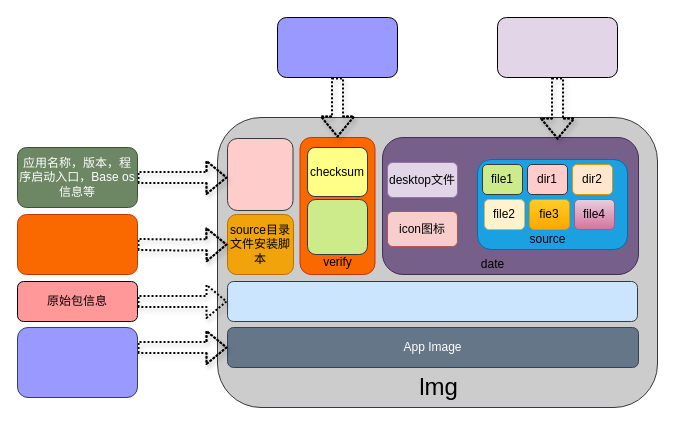
This 675x425 diagram has some shape labels left out. Each missing label, with the centre of its shape:
Base Info: the point at 432,301
lmgsign: the point at 337,226
meta信息: the point at 259,174
与运行时抽象层分离后的app应用镜像文件( 当为资源包时，App Image不存在 ): the point at 77,362
当lmg为资源安装包时，此脚本存在: the point at 77,244
暴露于宿主机中的文件: the point at 557,47
校验和签名信息: the point at 337,47
